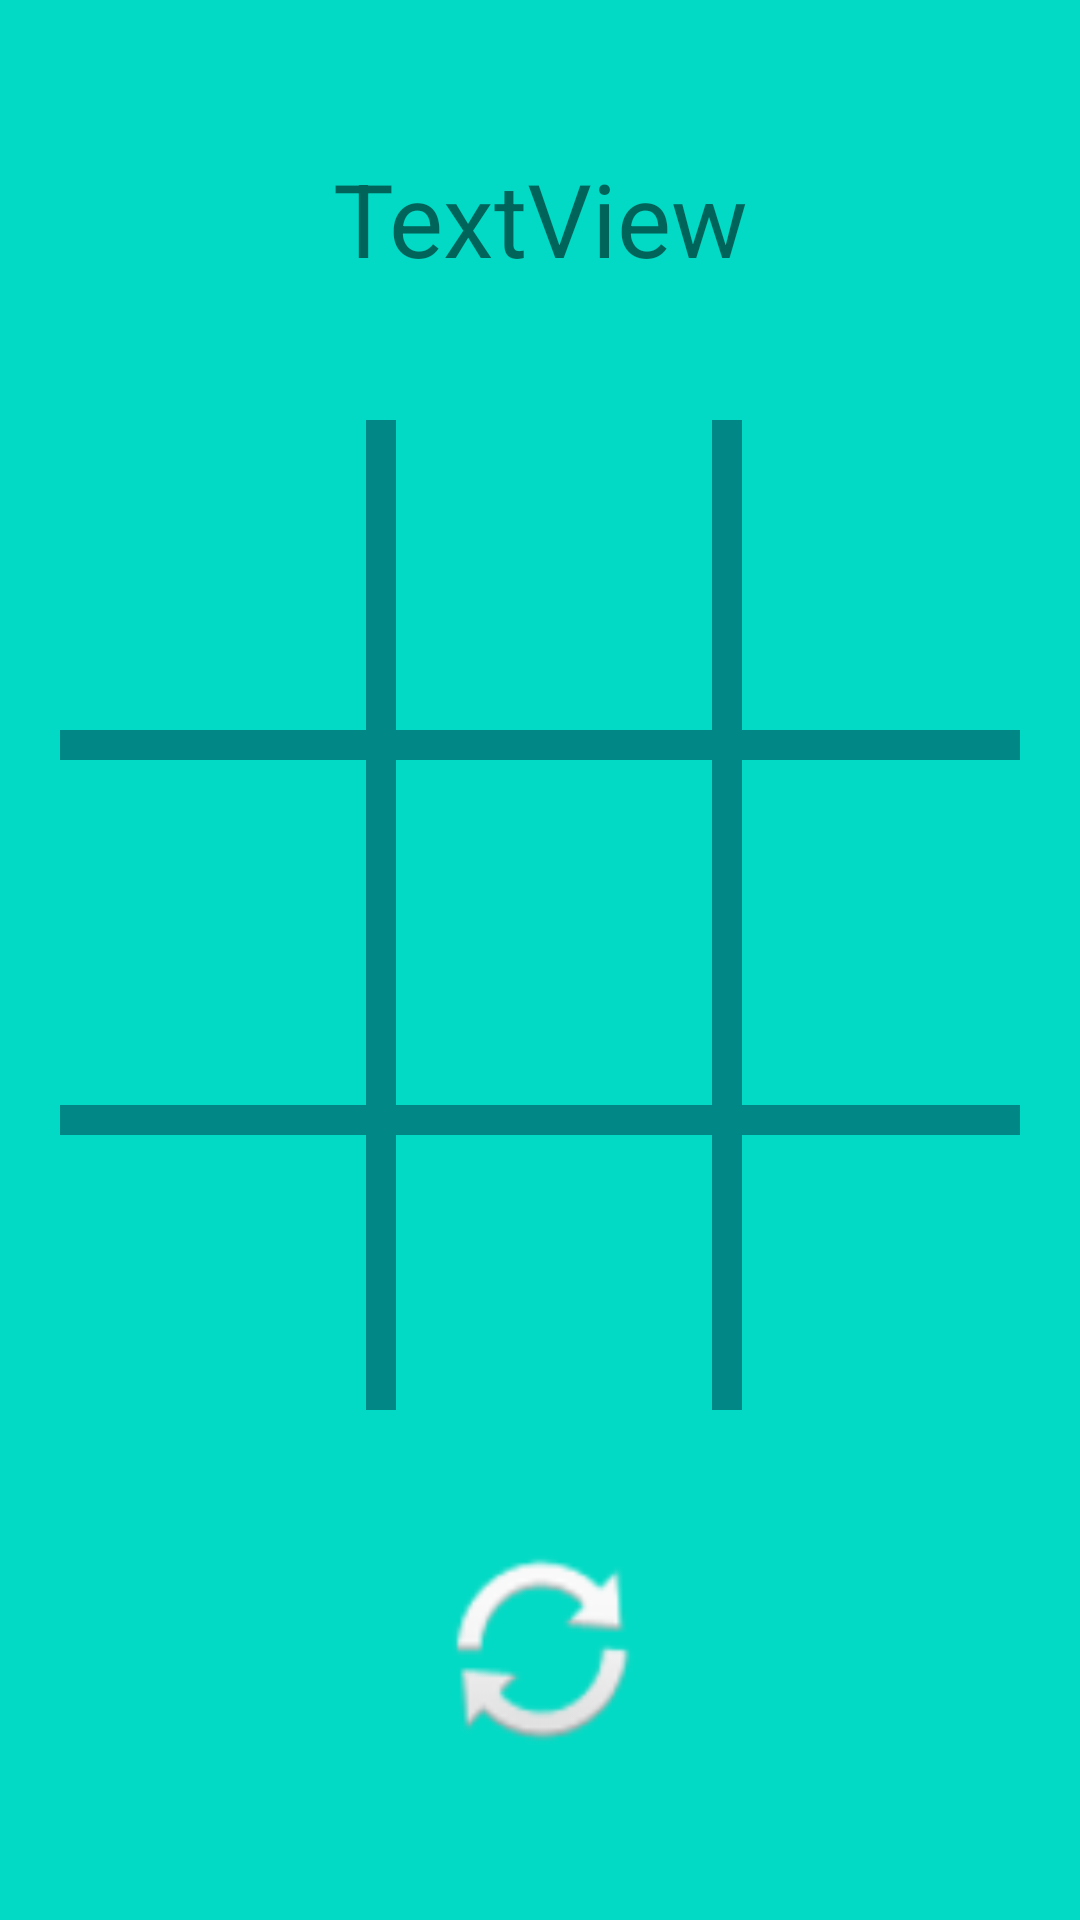

Icon bounding boxes for this 1080w x 1920h phone screenshot, format [x1,y1,x2,y2]:
popup sync: [456,1559,630,1740]
